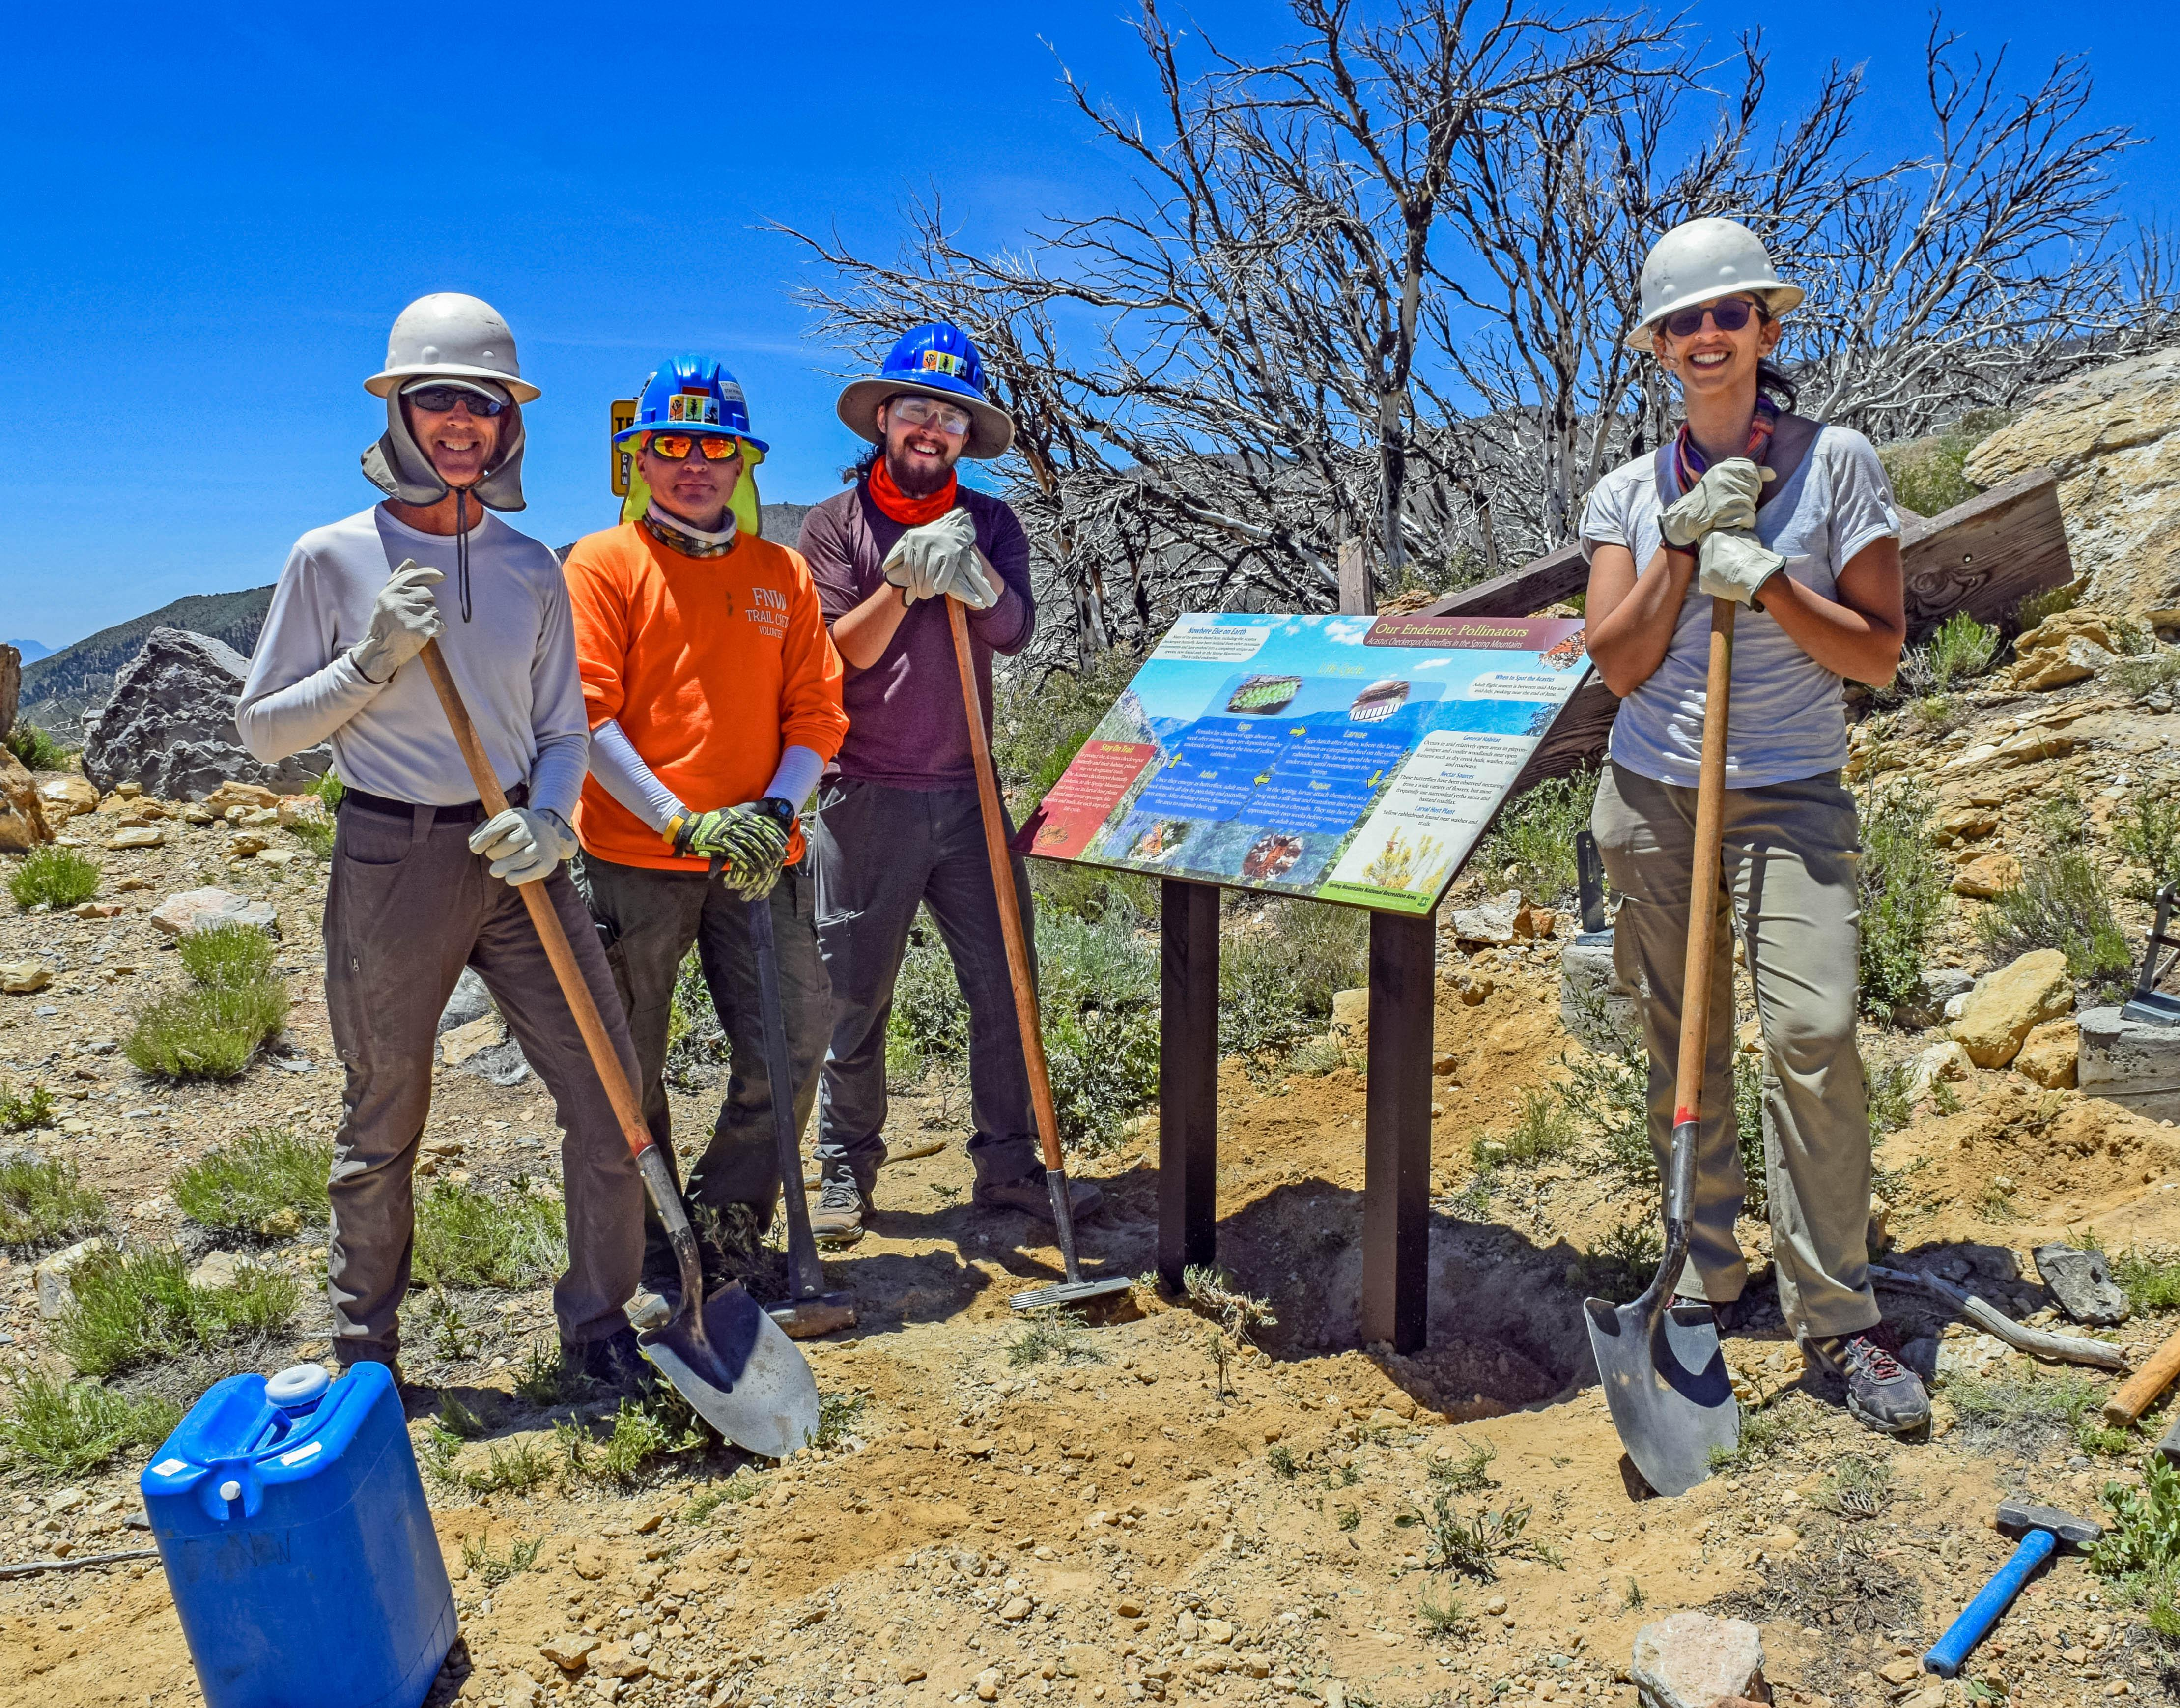helmet: (1619, 214, 1807, 365), (837, 320, 1019, 462), (363, 289, 549, 402), (623, 352, 770, 457)
